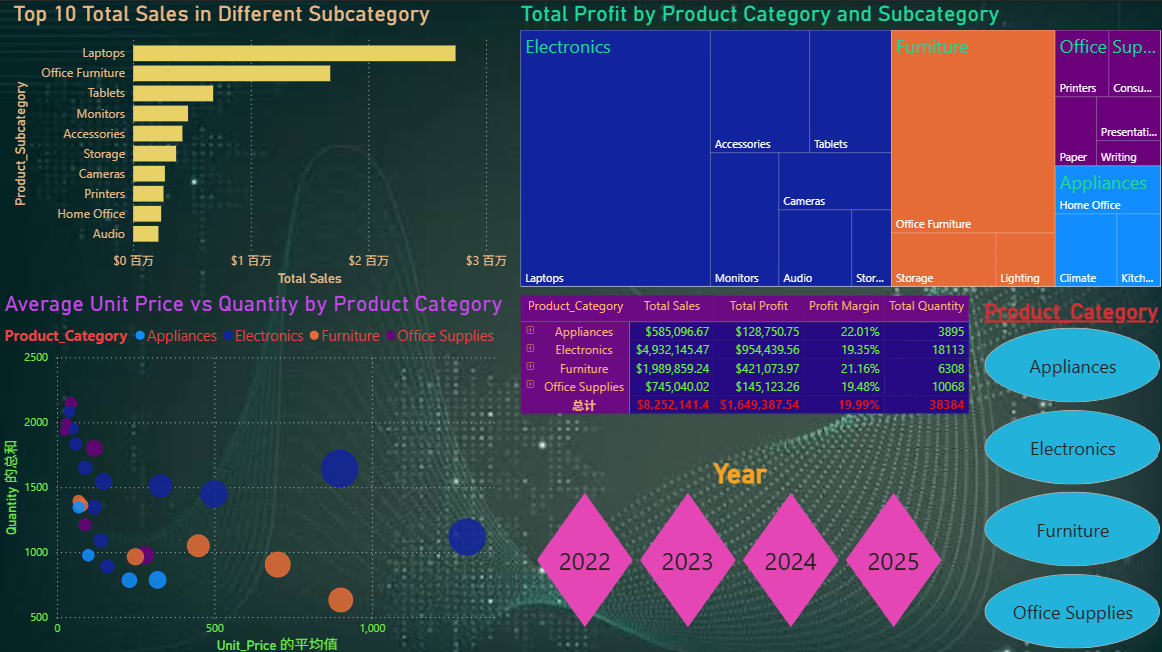

Layout of this report page (visuals, bound fields, positions):
{"tool":"powerbi","page":{"name":"Product & Total Sales","canvas":[1280,720],"ordinal":1},"visuals":[{"type":"clusteredBarChart","title":"Top 10 Total Sales in Different Subcategory","fields":{"Y":["FactSales.Total Sales"],"Category":["DimProduct.Product_Subcategory"]},"box":[9.6,0,557.1,318.4],"z":0},{"type":"treemap","title":"Total Profit by Product Category and Subcategory","fields":{"Group":["DimProduct.Product_Category"],"Details":["DimProduct.Product_Subcategory"],"Values":["FactSales.Total Profit"]},"box":[566.7,0,713.6,318.4],"z":1000},{"type":"scatterChart","title":"Average Unit Price vs Quantity by Product Category","fields":{"X":["FactSales.Unit_Price"],"Y":["Sum(FactSales.Quantity)"],"Category":["DimProduct.Product_Name"],"Size":["FactSales.Total Sales"],"Series":["DimProduct.Product_Category"]},"box":[0,318.4,566.7,402.1],"z":2000},{"type":"pivotTable","fields":{"Rows":["DimProduct.Product_Category","DimProduct.Product_Subcategory"],"Values":["FactSales.Total Sales","FactSales.Total Profit","FactSales.Profit Margin","FactSales.Total Quantity"]},"box":[566.7,318.4,525.6,159.2],"z":3000},{"type":"advancedSlicerVisual","fields":{"Values":["DimDate.Year"]},"box":[584.3,501.4,455.7,191.4],"z":4000},{"type":"advancedSlicerVisual","fields":{"Values":["DimProduct.Product_Category"]},"box":[1075.7,327.1,204.3,392.9],"z":5000}]}

Visuals, with their boxes in screenshot pixels (x1, y1, x2, y2), scaled from the page's 1280x720 canvas onto the 1162x652 screenshot:
"Top 10 Total Sales in Different Subcategory" clusteredBarChart: 9/0/514/288
"Total Profit by Product Category and Subcategory" treemap: 514/0/1161/288
"Average Unit Price vs Quantity by Product Category" scatterChart: 0/288/514/651
pivotTable - DimProduct.Product_Category x DimProduct.Product_Subcategory: 514/288/992/432
advancedSlicerVisual - DimDate.Year: 530/454/944/627
advancedSlicerVisual - DimProduct.Product_Category: 977/296/1161/651
